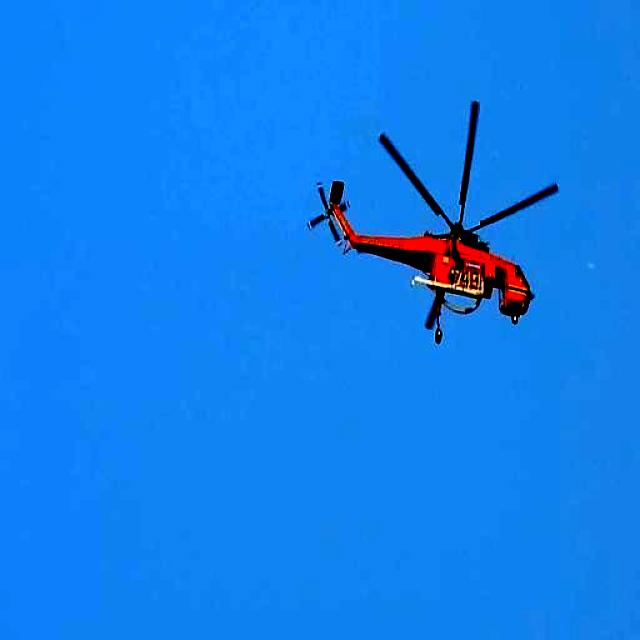drone: (308, 96, 561, 348)
